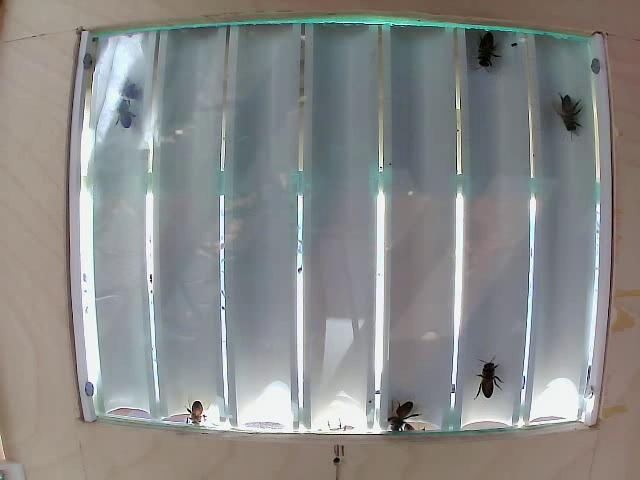bee: (555, 89, 589, 138), (474, 33, 504, 86), (108, 94, 134, 131), (479, 353, 502, 394), (383, 399, 413, 426)
